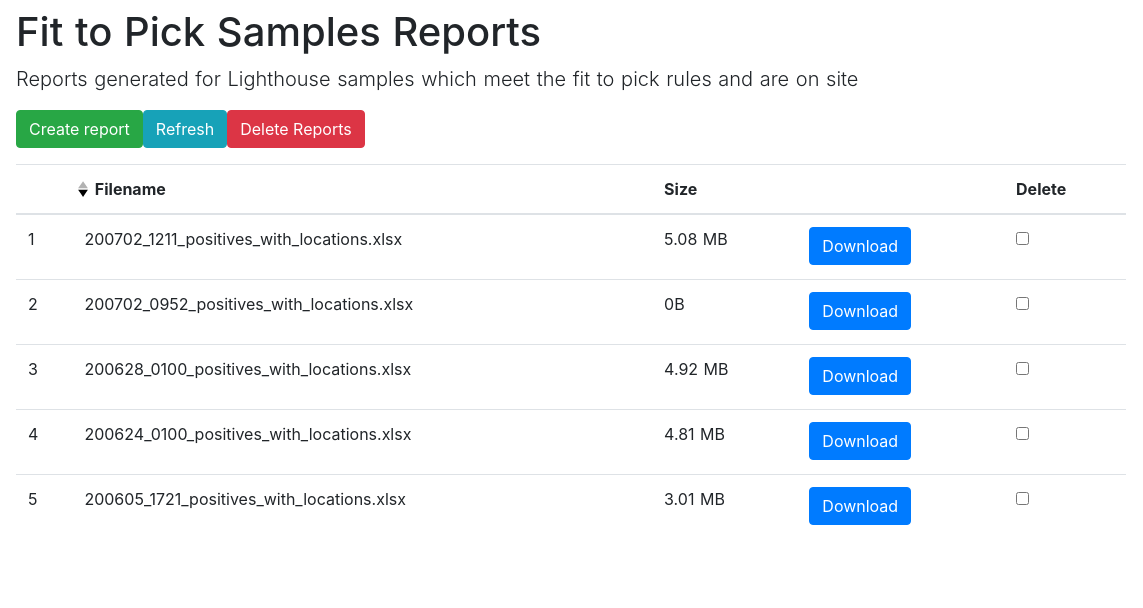
Scenario: Index › #deleteReports › when the request fails
Click the checkbox in the row of "5.08 MB" at (1023, 238), box [1016,232,1029,245]
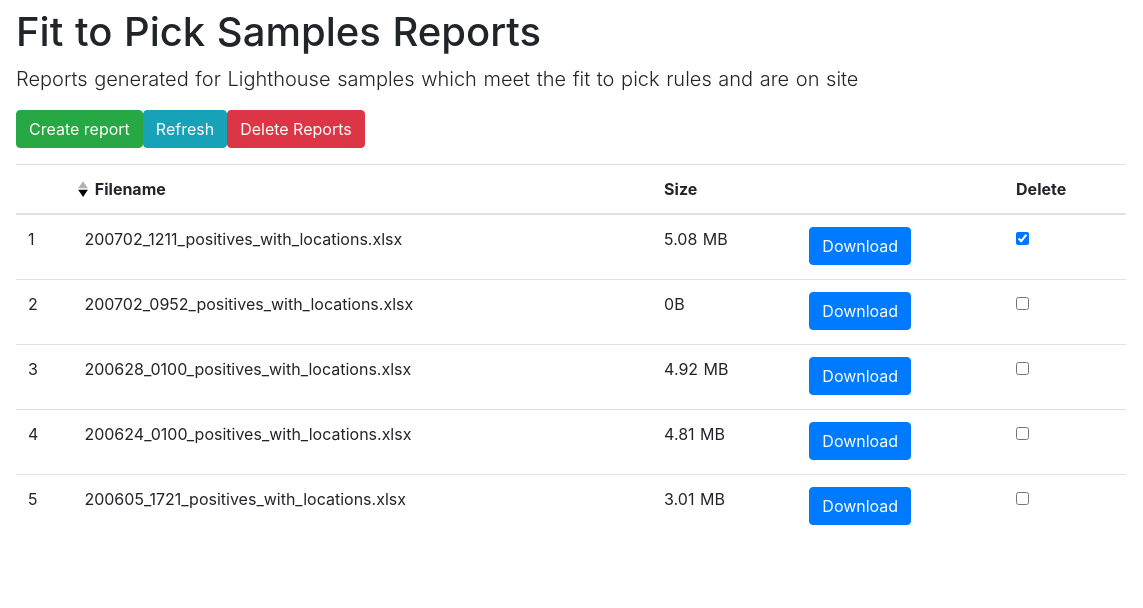
Click the button with id "deleteReports" at (296, 129), box [227,110,365,148]
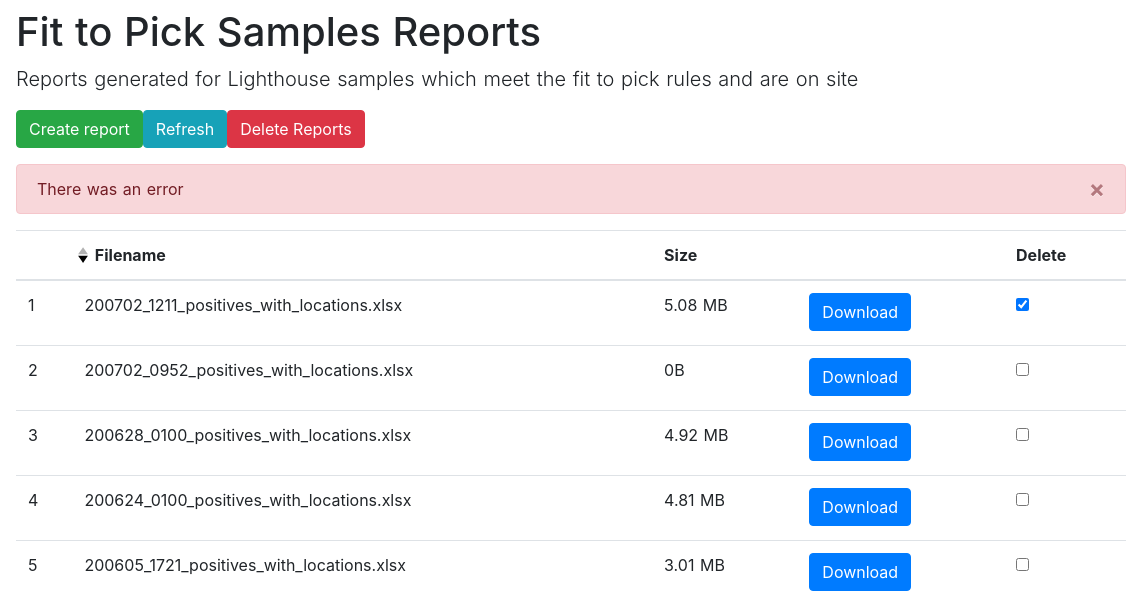
Result: the message with class "alert" shows "There was an error" at [37,179,184,199]
